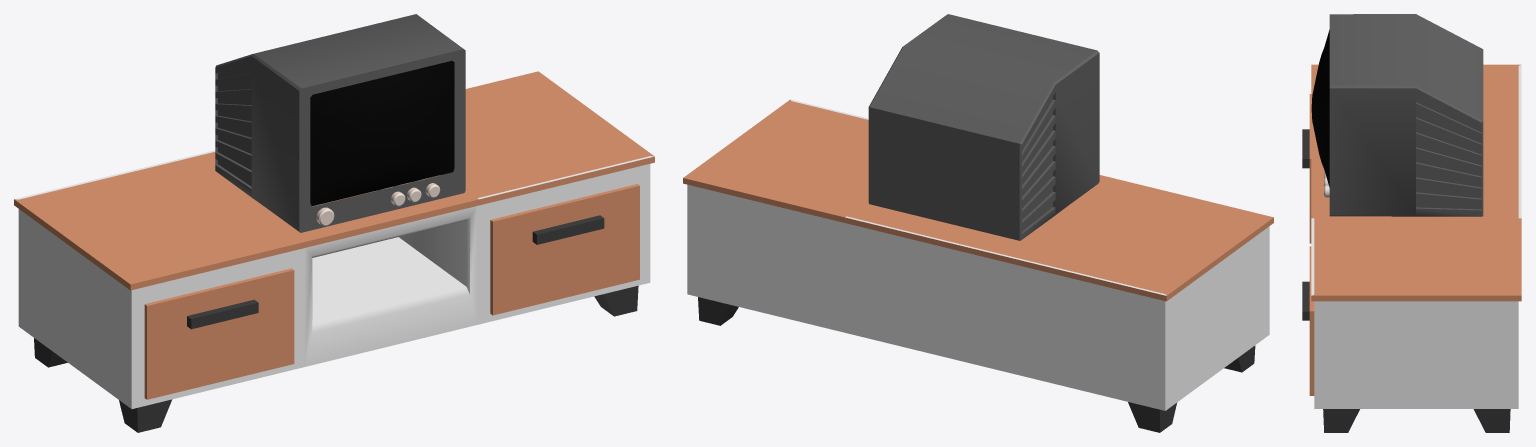
File: Asset03_TV+Mesinha.fbx
3 renders of one model, left to right at view 1: azimuth 30°, elevation 25°; view 2: azimuth 150°, elevation 25°; view 3: azimuth 270°, elevation 25°, orthographic. The views are drawn at different scales.
Parts seen in each view (by area): view 1: Cube_2_2, Cube, Cube_1, Portinha01, Portinha02, Cube_5, Cube_2; view 2: Cube_2_2, Cube, Cube_4, Cube_3; view 3: Cube_2_2, Cube, Cube_1, Portinha02, Cube_3, Cube_2, Portinha01.
Part boxes in pixels (bbox=[...]): Cube_2_2: bbox=[14, 71, 654, 408]; Cube: bbox=[215, 14, 465, 232]; Cube_1: bbox=[310, 61, 454, 206]; Portinha01: bbox=[144, 268, 294, 399]; Portinha02: bbox=[490, 184, 639, 315]; Cube_5: bbox=[119, 399, 172, 432]; Cube_2: bbox=[594, 285, 638, 316]; Cube_2_2: bbox=[683, 99, 1273, 410]; Cube: bbox=[868, 14, 1099, 240]; Cube_4: bbox=[1128, 402, 1177, 432]; Cube_3: bbox=[698, 297, 738, 325]; Cube_2_2: bbox=[1311, 64, 1521, 408]; Cube: bbox=[1329, 14, 1483, 216]; Cube_1: bbox=[1311, 29, 1329, 187]; Portinha02: bbox=[1302, 246, 1314, 395]; Cube_3: bbox=[1473, 409, 1510, 432]; Cube_2: bbox=[1323, 409, 1359, 432]; Portinha01: bbox=[1302, 94, 1311, 243].
Size of the model in its own units: 303 by 166 by 122.
